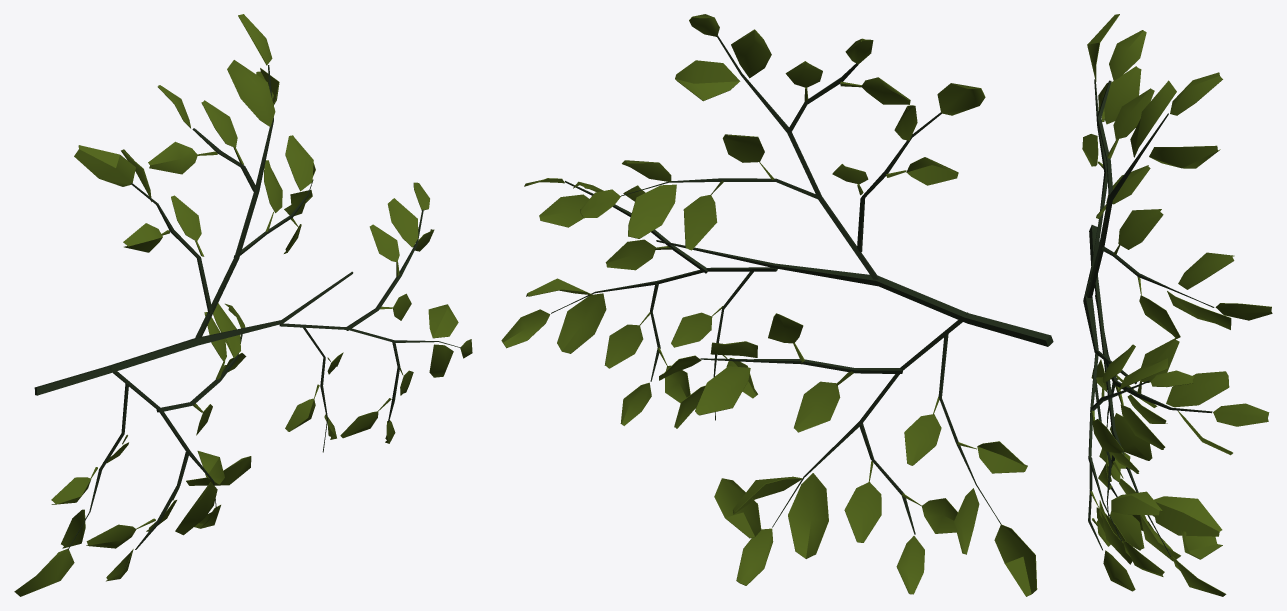
File: tree_ExtraLargeTwig.obj
3 renders of one model, left to right at view 1: azimuth 30°, elevation 25°; view 2: azimuth 150°, elevation 25°; view 3: azimuth 270°, elevation 25°, orthographic. The views are drawn at different scales.
Visible parts, largest first — view 1: ExtraLargeTwig_ExtraLargeTwig_Leaf, ExtraLargeTwig_ExtraLargeTwig_Twig; view 2: ExtraLargeTwig_ExtraLargeTwig_Leaf, ExtraLargeTwig_ExtraLargeTwig_Twig; view 3: ExtraLargeTwig_ExtraLargeTwig_Leaf, ExtraLargeTwig_ExtraLargeTwig_Twig.
Part boxes in pixels (<box>): ExtraLargeTwig_ExtraLargeTwig_Leaf: <box>14,14,472,596</box>; ExtraLargeTwig_ExtraLargeTwig_Twig: <box>34,65,460,549</box>; ExtraLargeTwig_ExtraLargeTwig_Leaf: <box>501,14,1037,596</box>; ExtraLargeTwig_ExtraLargeTwig_Twig: <box>551,35,1053,534</box>; ExtraLargeTwig_ExtraLargeTwig_Leaf: <box>1082,14,1272,596</box>; ExtraLargeTwig_ExtraLargeTwig_Twig: <box>1083,79,1214,556</box>.
Size of the model in its own units: 1.25 by 1.28 by 0.4025.
